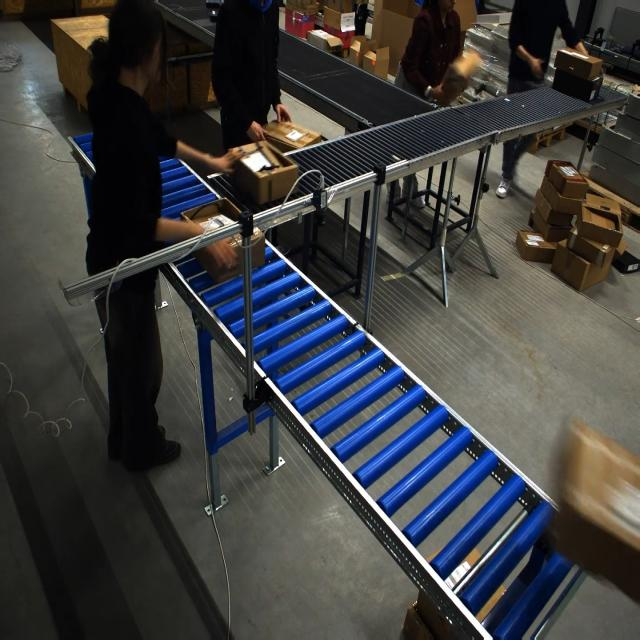box: (546, 421, 638, 607), (182, 198, 264, 283), (231, 140, 299, 206)
product: (208, 9, 220, 23)
